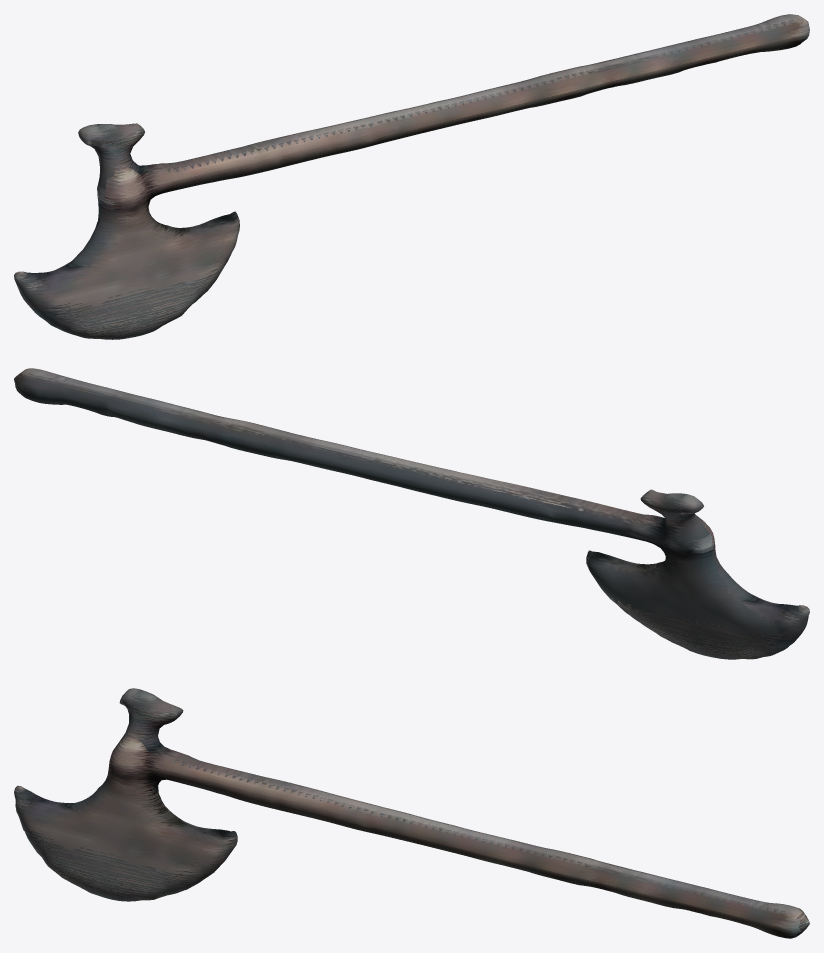
File: kfl-2184.glb
3 renders of one model, top to bottom at view 1: azimuth 30°, elevation 25°; view 2: azimuth 150°, elevation 25°; view 3: azimuth 330°, elevation 25°, orthographic. The views are drawn at different scales.
Visible parts, largest first — view 1: geometry_0; view 2: geometry_0; view 3: geometry_0.
Boxes of the visible parts, x1,y1,x2,y2 form: geometry_0: (14, 14, 809, 339); geometry_0: (14, 368, 809, 659); geometry_0: (14, 688, 809, 938).
Size of the model in its own units: 0.9888 by 0.2206 by 0.0982.
Materials: 1 (1 with a texture image).
